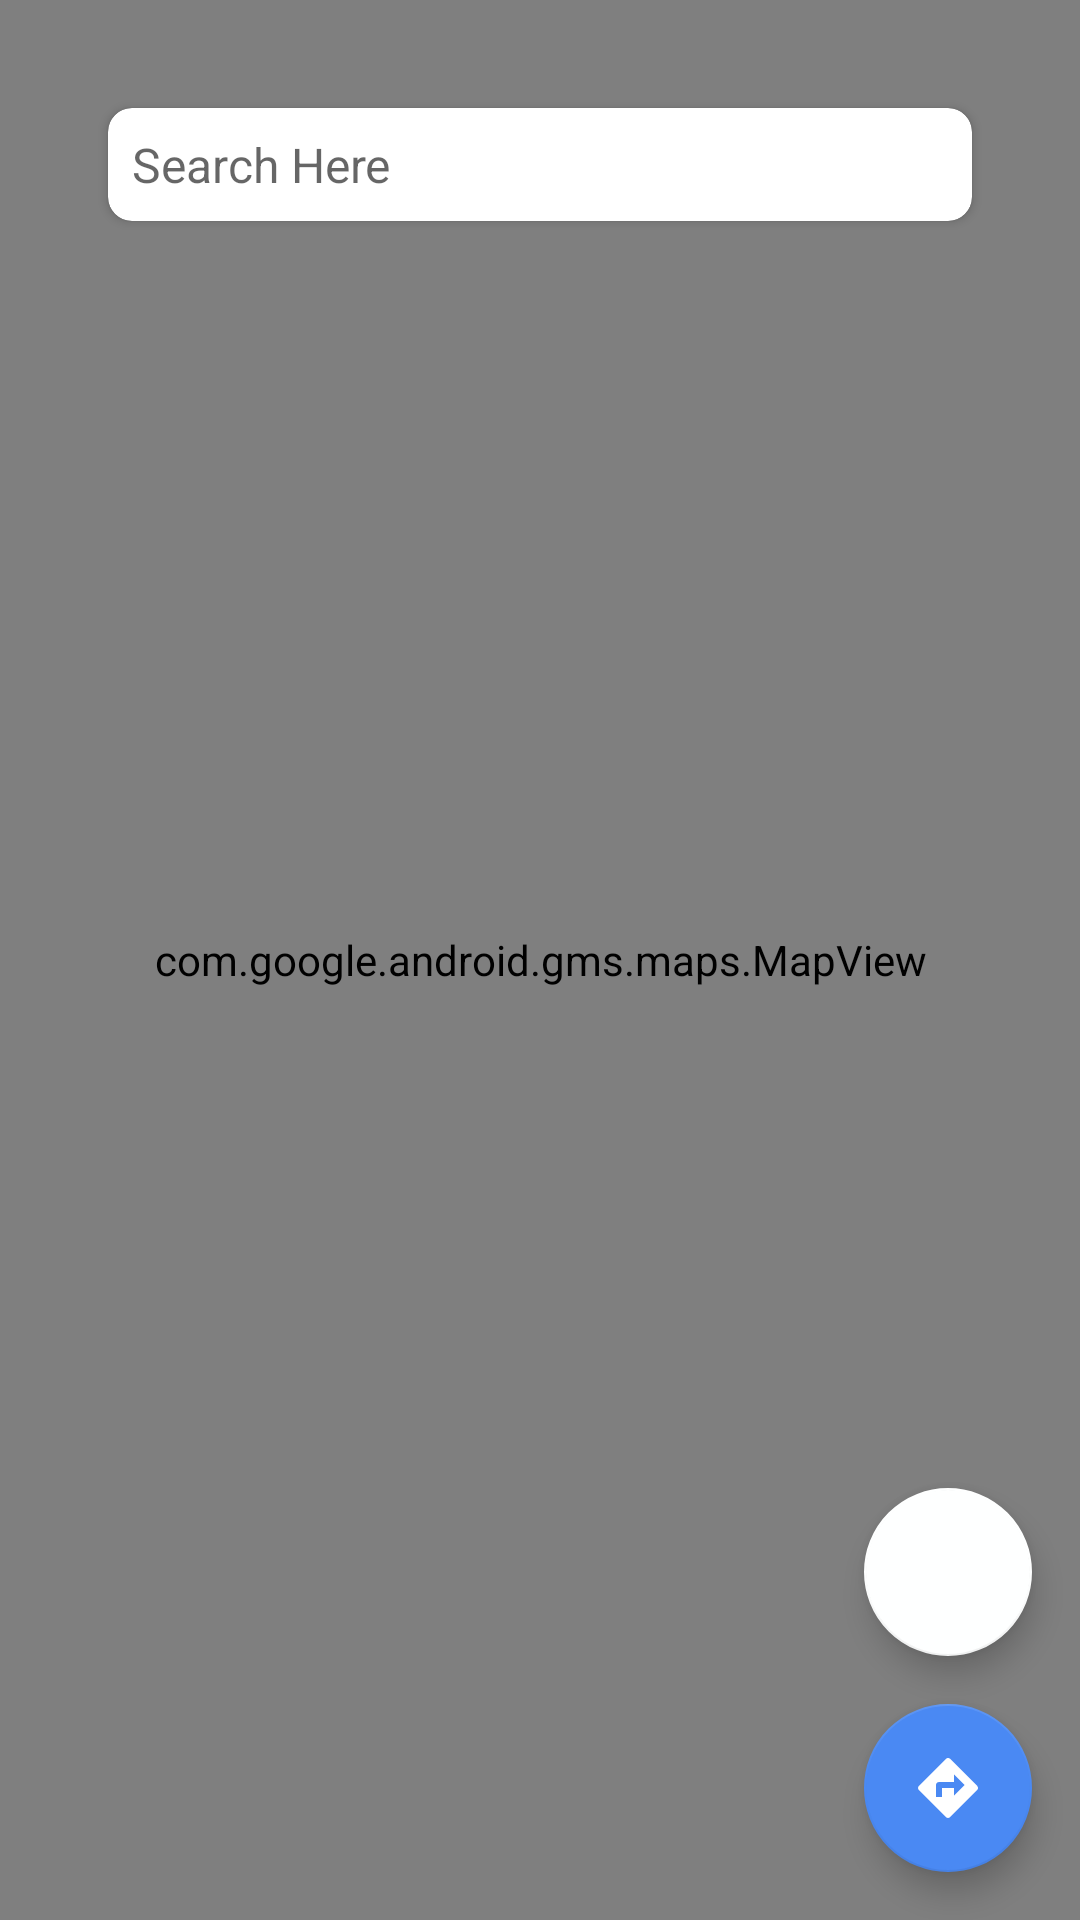

Icons on this 1080px x 1920px Android screen, each with the point to tap as point (x, y):
directions: point (948, 1788)
